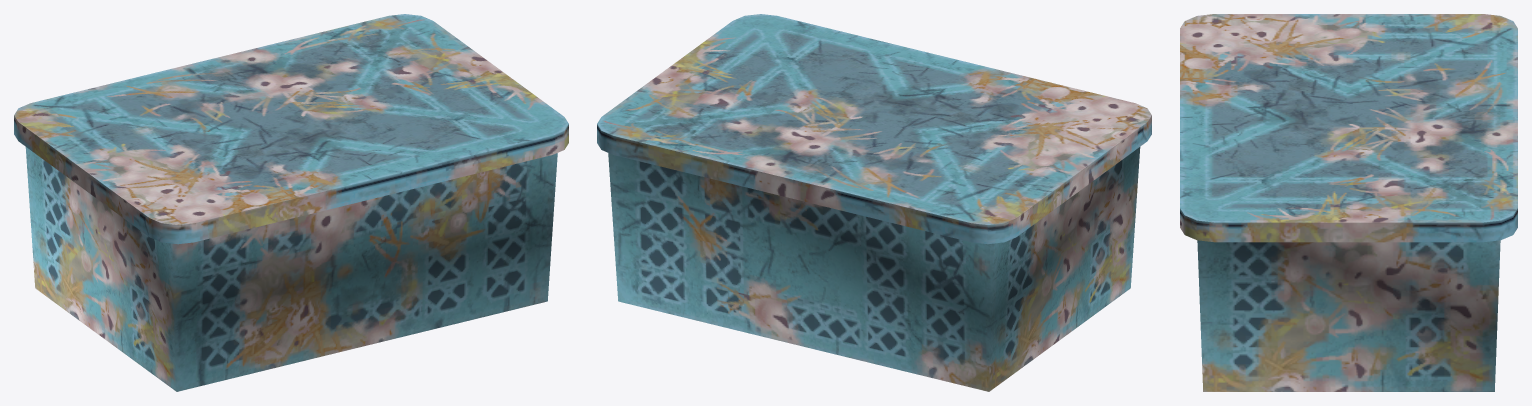
3 renders of one model, left to right at view 1: azimuth 30°, elevation 25°; view 2: azimuth 150°, elevation 25°; view 3: azimuth 270°, elevation 25°, orthographic. The views are drawn at different scales.
Parts seen in each view (by area): view 1: Obj_WallaContainer00_box5__Container00; view 2: Obj_WallaContainer00_box5__Container00; view 3: Obj_WallaContainer00_box5__Container00.
Boxes of the visible parts, left/top/right/bottom form: Obj_WallaContainer00_box5__Container00: left=14, top=14, right=568, bottom=391; Obj_WallaContainer00_box5__Container00: left=597, top=14, right=1151, bottom=391; Obj_WallaContainer00_box5__Container00: left=1180, top=14, right=1517, bottom=391.
Size of the model in its own units: 1.38 by 0.5584 by 0.9465.
1 material, 1 textured.
